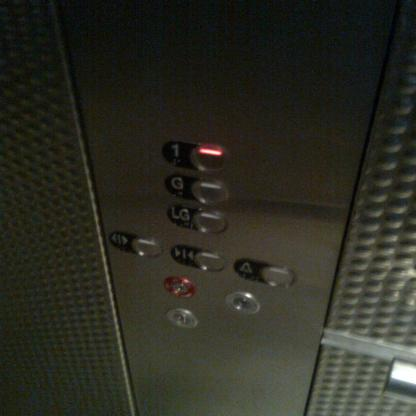1: (162, 140, 232, 174)
G: (164, 172, 231, 208)
LG: (166, 202, 230, 236)
alarm: (233, 256, 298, 289)
close: (170, 243, 227, 273)
keyhole: (162, 274, 195, 300), (224, 291, 259, 314), (164, 308, 198, 330)
open: (108, 229, 164, 260)
